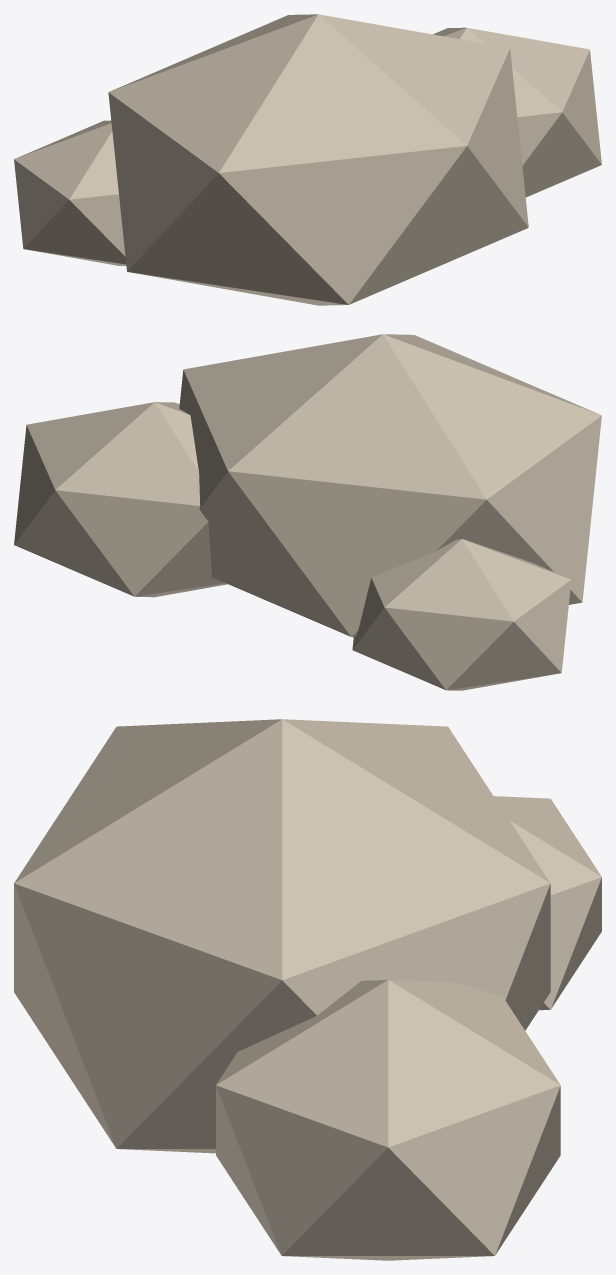
Rendered from rocks.glb.
The picture shows the model from 3 angles, top to bottom: view 1: azimuth 30°, elevation 25°; view 2: azimuth 150°, elevation 25°; view 3: azimuth 270°, elevation 25°; orthographic projection. The views are drawn at different scales.
Visible parts, largest first — view 1: rocks; view 2: rocks; view 3: rocks.
Boxes of the visible parts, bbox=[...] form: rocks: bbox=[14, 14, 601, 305]; rocks: bbox=[14, 334, 601, 690]; rocks: bbox=[14, 719, 601, 1260].
Size of the model in its own units: 1.77 by 0.91 by 1.11.
